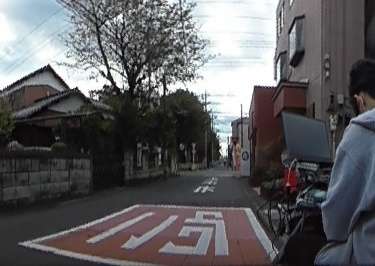person: (300, 58, 375, 266)
